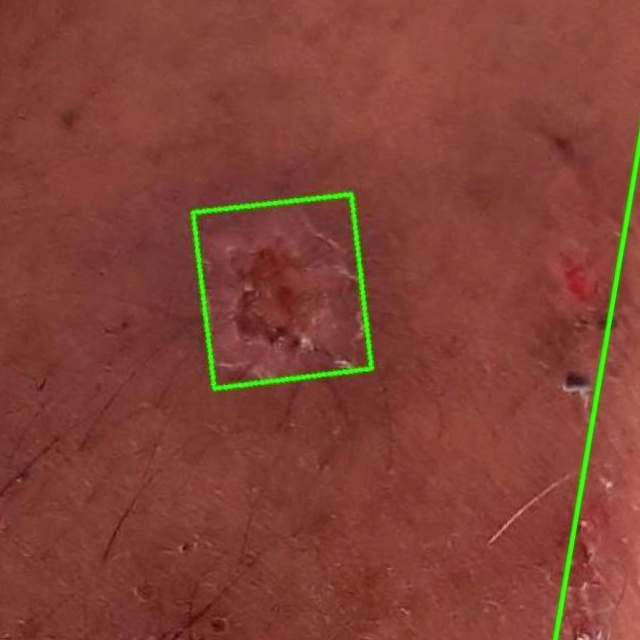Eczema: (192, 193, 371, 387)
